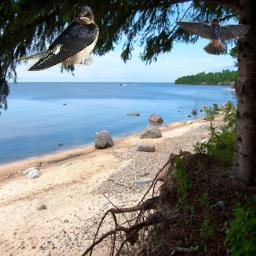Cuckoo: (37, 44, 63, 66)
Swallow: (18, 6, 99, 71), (172, 17, 252, 55)
